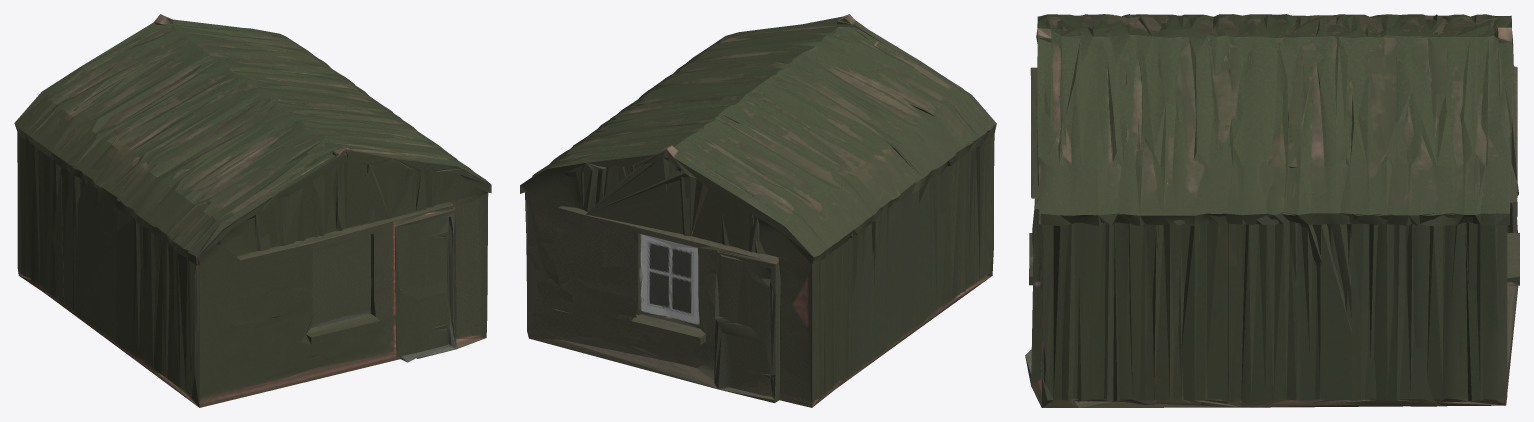
The model's file is barracks.glb.
3 views of the same model, side by side, from view 1: azimuth 30°, elevation 25°; view 2: azimuth 150°, elevation 25°; view 3: azimuth 270°, elevation 25° (orthographic). The views are drawn at different scales.
Bounding box in the file's own units: 1.71 × 1.24 × 1.91.
1 material, 1 textured.
